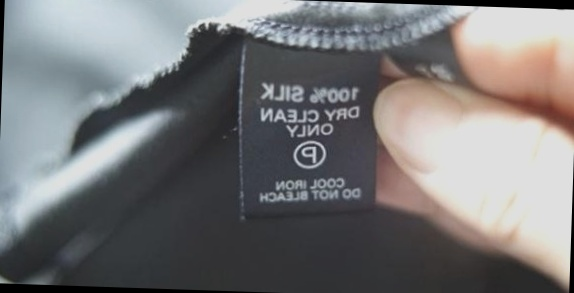dry_clean_any_solvent_except_trichloroethylene: (291, 138, 326, 169)
